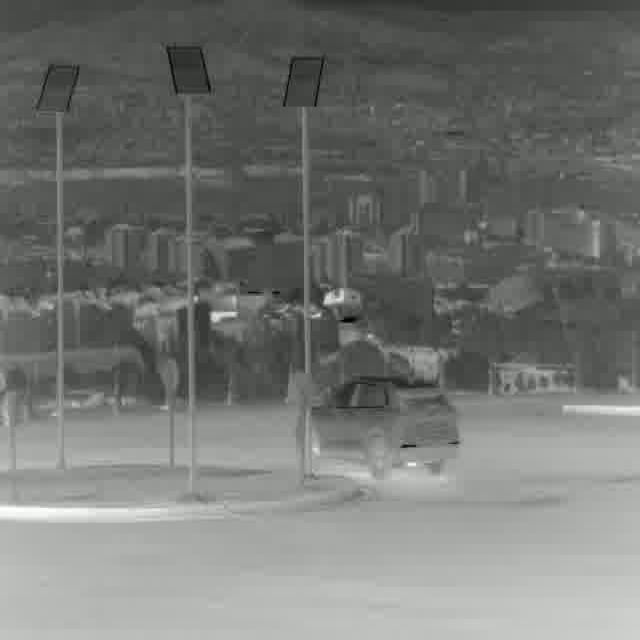Car: (296, 378, 459, 486)
